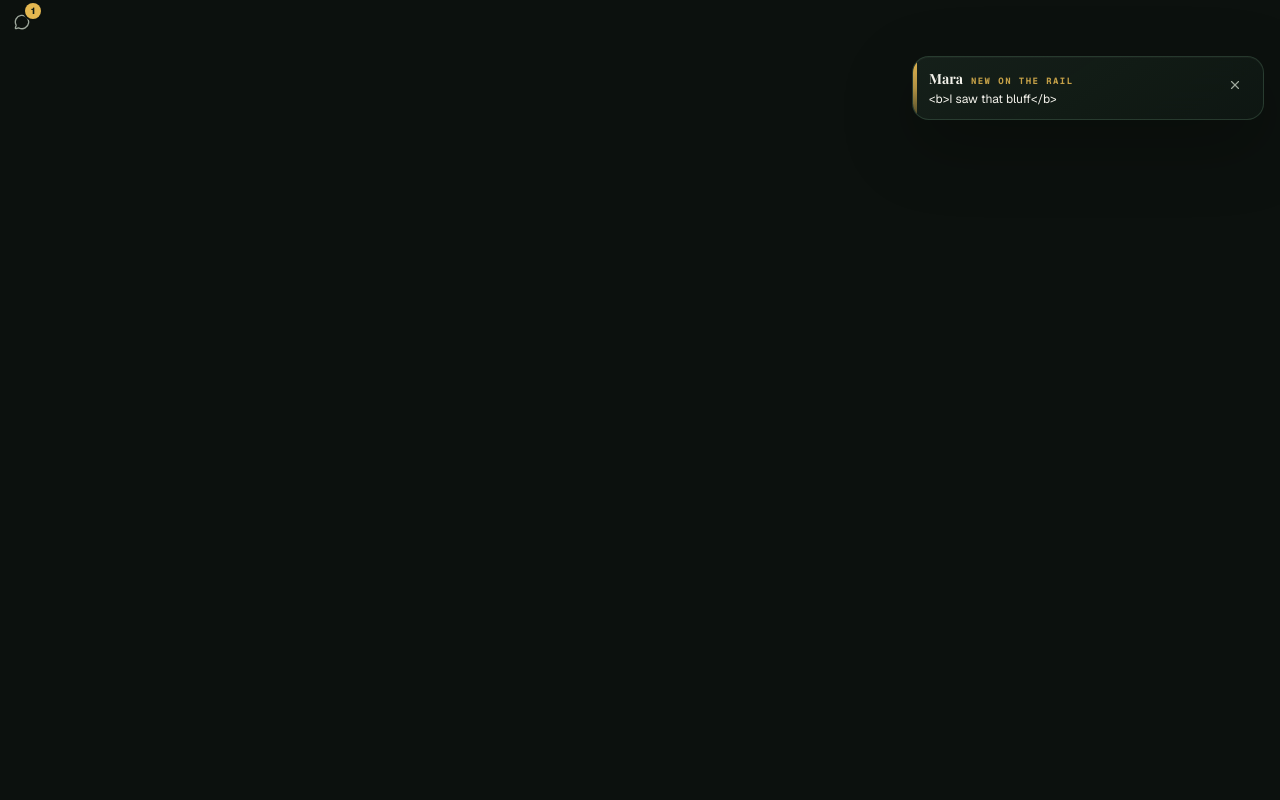
Scenario: ChatSheet › previews only new stable ids while closed, with dismiss and open actions
Later steps or results of the test are not shown.
Expected: the text "<b>I saw that bluff</b>" is shown, [929, 91, 1057, 107]
Step 1. Click the button named "Dismiss message preview" → (1235, 85), box [1213, 63, 1257, 107]
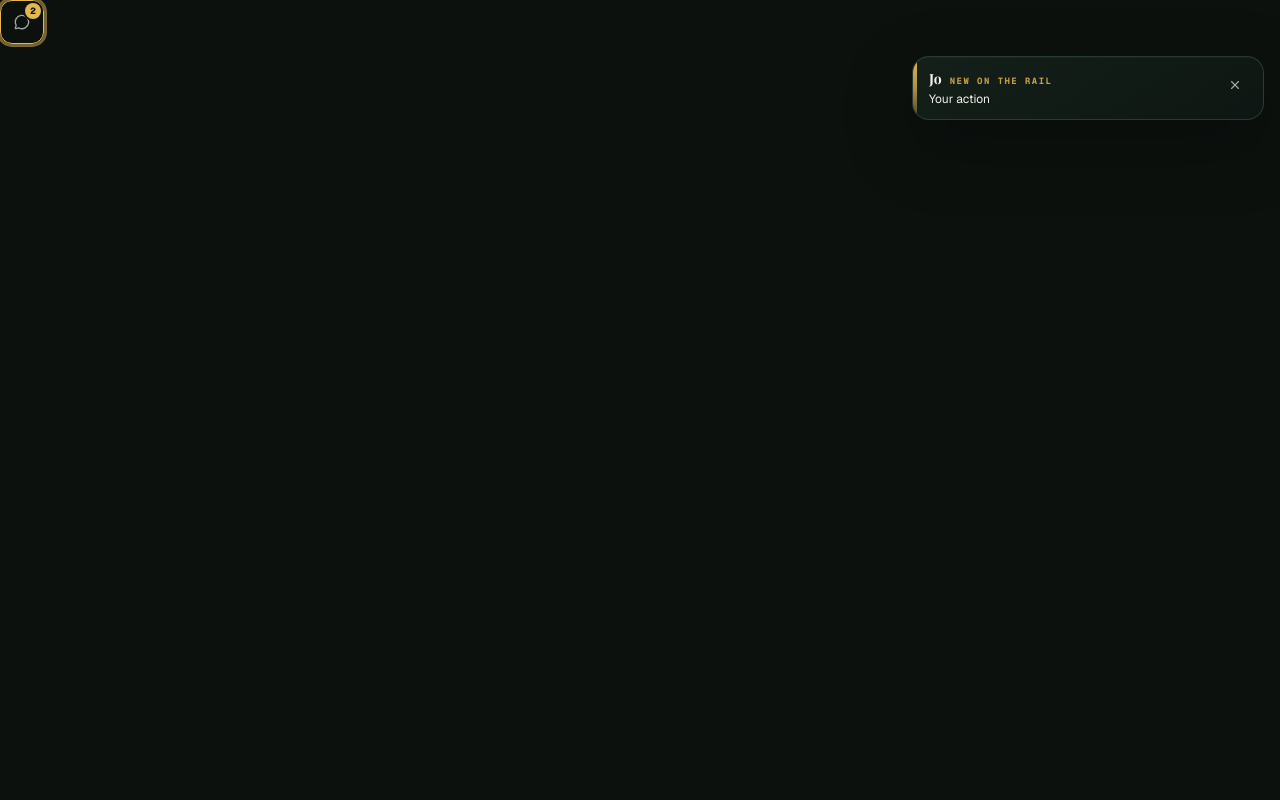
Expected: the text "Your action" is shown, [929, 91, 990, 107]
Step 2. Click the button with aria-label "Open table talk from Jo" → (1001, 81), box [917, 57, 1207, 119]
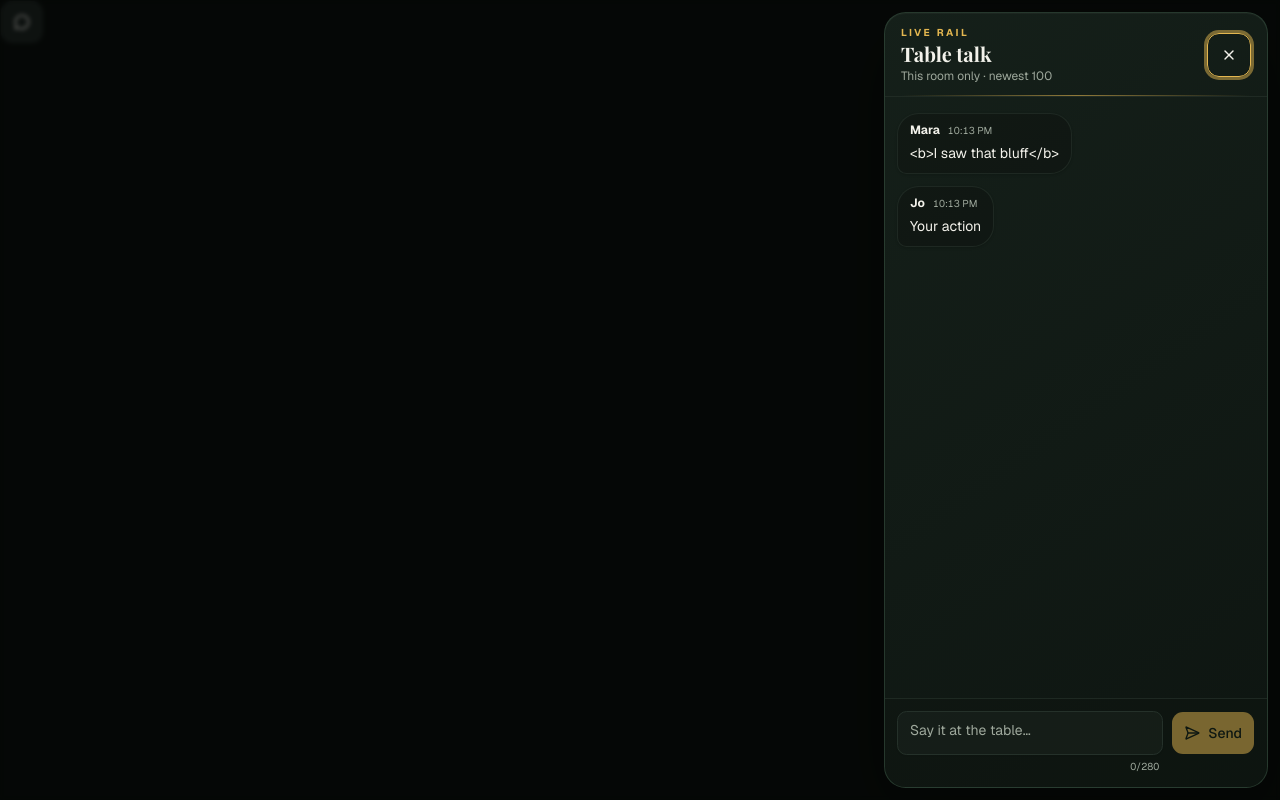
Expected: the text "Your action" is shown, [910, 215, 981, 238]
Expected: the dialog "Table talk" is shown, [884, 12, 1268, 788]
